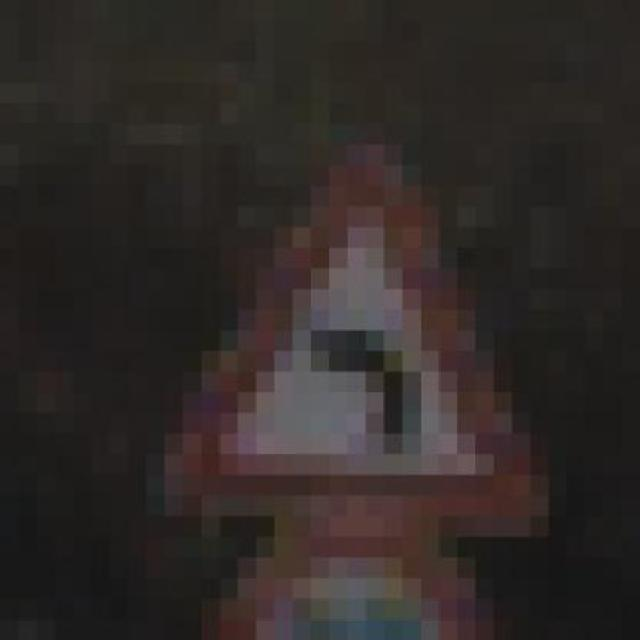Dangerous Left Curve Ahead: (110, 103, 585, 557)
